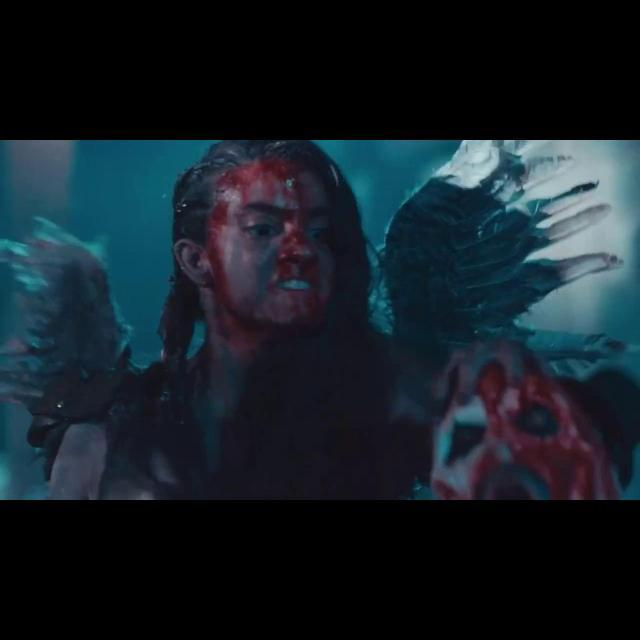blood: (175, 159, 332, 364), (433, 360, 620, 500)
